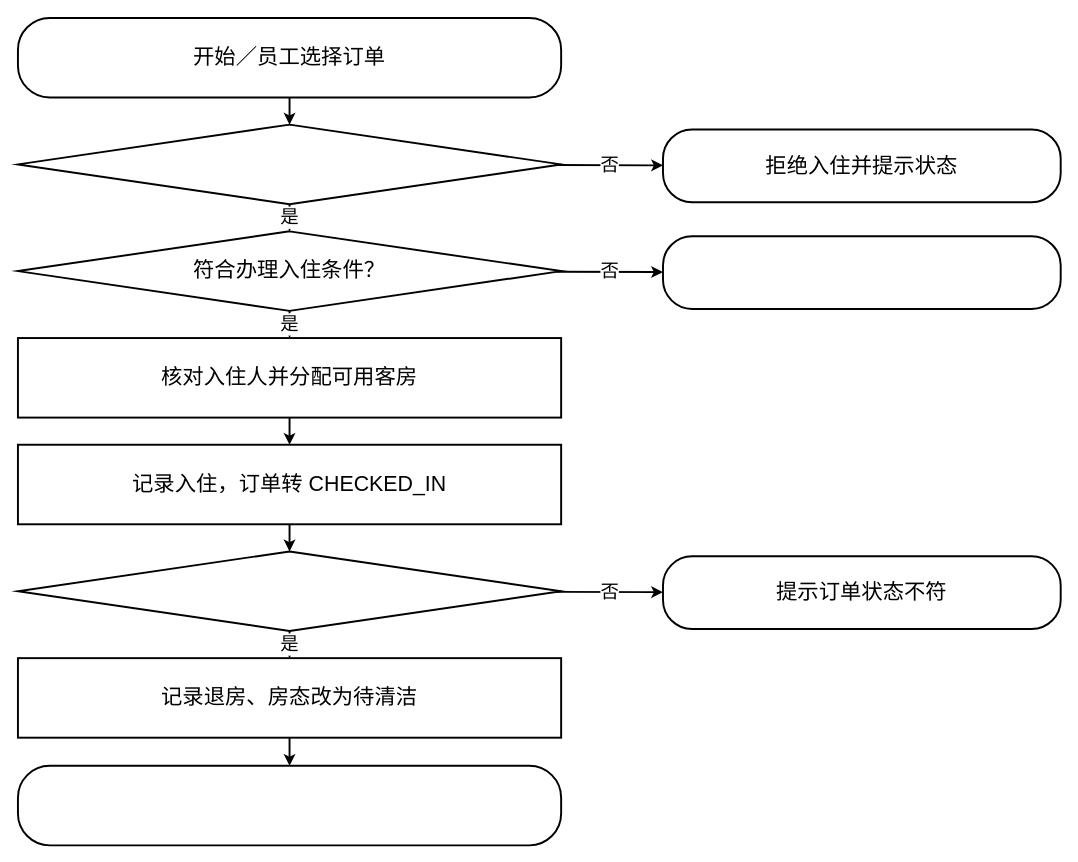
Some shapes in this 1078 by 862 pixel diagram are drawn without their labels. The shapes that lost their labels are listed below. From the top down, each one's centre as x and y in pixels, then its label:
the point at 289,164: 订单已确认并已支付？
the point at 861,272: 符合逾期规则可标记 NO_SHOW
the point at 289,590: 退房时核对已入住状态
the point at 289,805: 订单转 CHECKED_OUT
